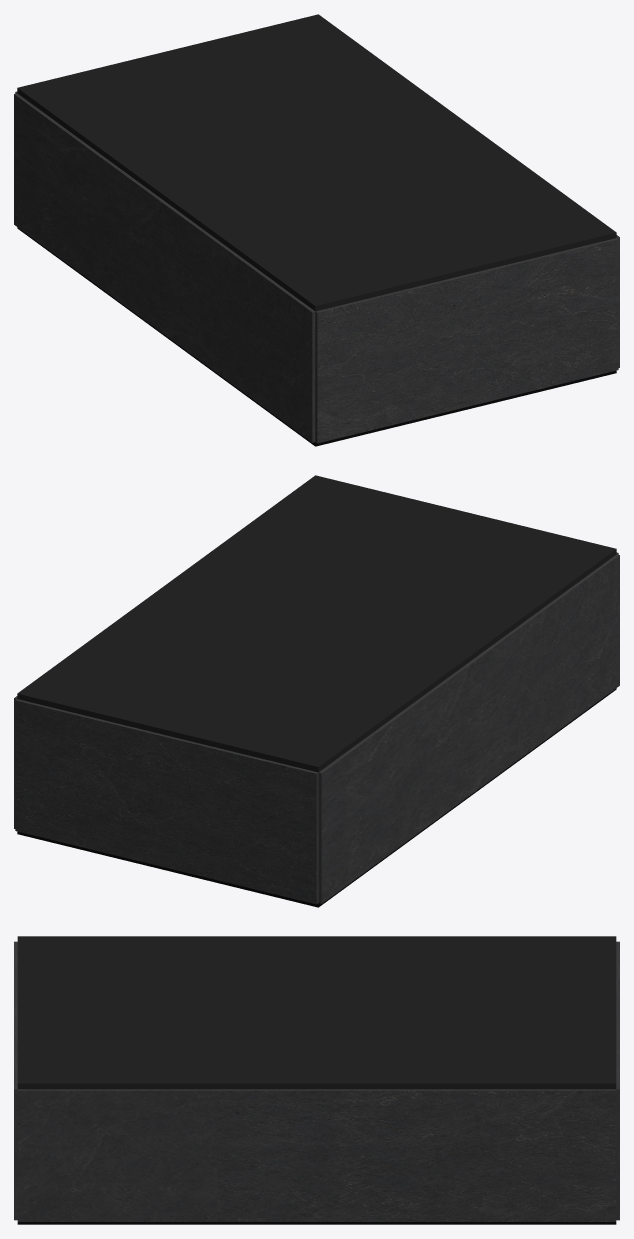
Rendered from danny-gallery-360-optimized.glb.
3 views of the same model, one above another, from view 1: azimuth 30°, elevation 25°; view 2: azimuth 150°, elevation 25°; view 3: azimuth 270°, elevation 25° (orthographic).
Parts seen in each view (by area): view 1: ARCH_Ceiling, DEMO_Wall, DEMO_Ceiling, ARCH_Wall, DEMO_Floor; view 2: ARCH_Wall, ARCH_Ceiling, DEMO_Ceiling, DEMO_Wall, ARCH_Floor; view 3: ARCH_Ceiling, ARCH_Wall, DEMO_Ceiling, DEMO_Wall, ARCH_Floor, DEMO_Floor.
Part boxes in pixels (<box>): ARCH_Ceiling: <box>17,14,516,238</box>; DEMO_Wall: <box>212,235,619,443</box>; DEMO_Ceiling: <box>216,160,616,311</box>; ARCH_Wall: <box>14,91,215,369</box>; DEMO_Floor: <box>216,370,616,446</box>; ARCH_Wall: <box>14,627,520,904</box>; ARCH_Ceiling: <box>17,548,517,772</box>; DEMO_Ceiling: <box>216,475,616,626</box>; DEMO_Wall: <box>518,552,619,757</box>; ARCH_Floor: <box>17,761,517,907</box>; ARCH_Ceiling: <box>217,936,616,1089</box>; ARCH_Wall: <box>217,941,619,1221</box>; DEMO_Ceiling: <box>17,936,217,1089</box>; DEMO_Wall: <box>14,941,217,1221</box>; ARCH_Floor: <box>217,1222,616,1224</box>; DEMO_Floor: <box>17,1222,217,1224</box>.
Bounding box in the file's own units: 14.3 × 6.24 × 24.3.
31 materials, 14 textured.
